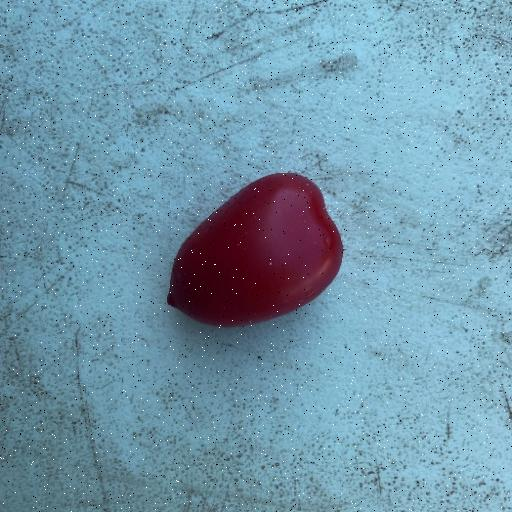Waste: (165, 170, 344, 328)
